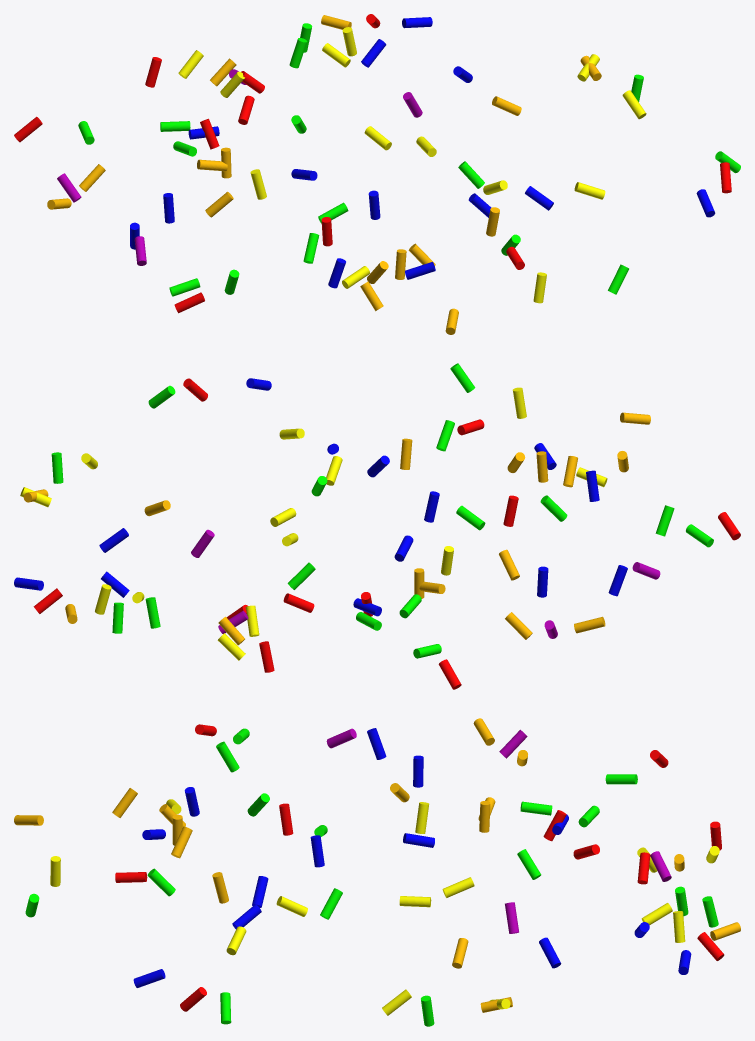
The model's file is rainbow_round.glb.
3 renders of one model, top to bottom at view 1: azimuth 30°, elevation 25°; view 2: azimuth 150°, elevation 25°; view 3: azimuth 270°, elevation 25°, orthographic. The views are drawn at different scales.
Bounding box in the file's own units: 2.71 × 0.1265 × 2.86.
